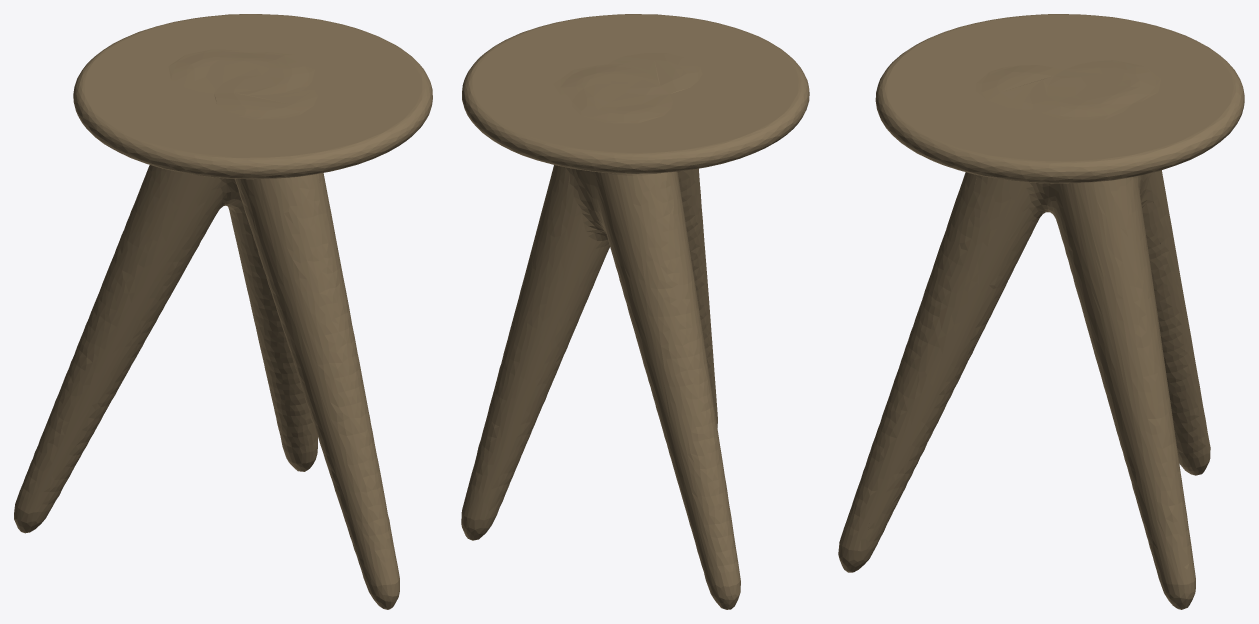
Rendered from hocker_2.glb.
3 views of the same model, side by side, from view 1: azimuth 30°, elevation 25°; view 2: azimuth 150°, elevation 25°; view 3: azimuth 270°, elevation 25° (orthographic). The views are drawn at different scales.
Parts seen in each view (by area): view 1: 281895_23_05_30_08_38_31_1; view 2: 281895_23_05_30_08_38_31_1; view 3: 281895_23_05_30_08_38_31_1.
Part boxes in pixels (<box>): 281895_23_05_30_08_38_31_1: <box>14,14,432,609</box>; 281895_23_05_30_08_38_31_1: <box>461,14,809,609</box>; 281895_23_05_30_08_38_31_1: <box>838,14,1244,609</box>.
Size of the model in its own units: 0.8107 by 1.08 by 0.8487.
1 material, 1 textured.
